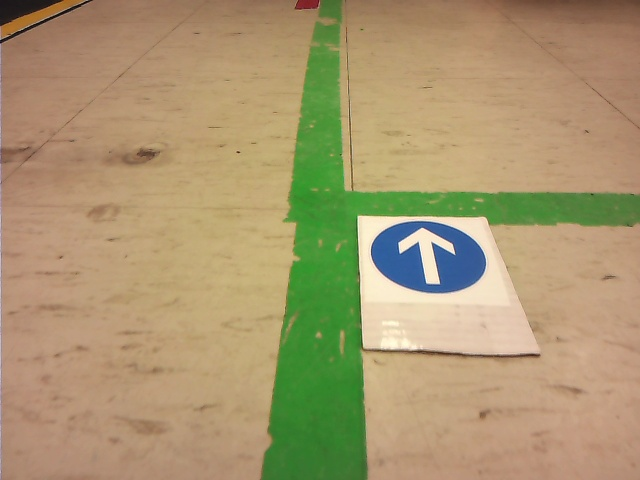GO FORWARD: (373, 222, 485, 294)
